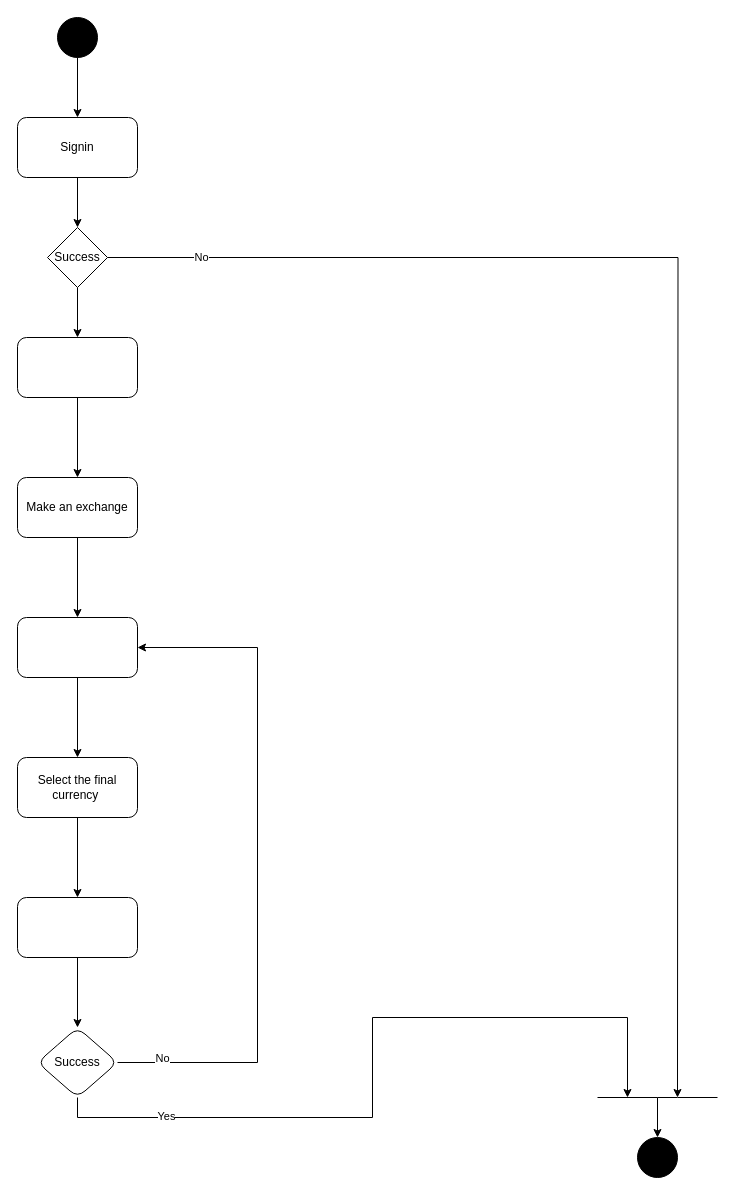
Image size: 736x1195. Some labels were removed from this diagram. The shapes that lost their labels are listed below. From the top down, each one's centre as x and y in pixels, then its label:
At [77,367]: "Make a new transaction".
At [77,647]: "Select the currency that is going to be converted".
At [77,927]: "Add the amount".
